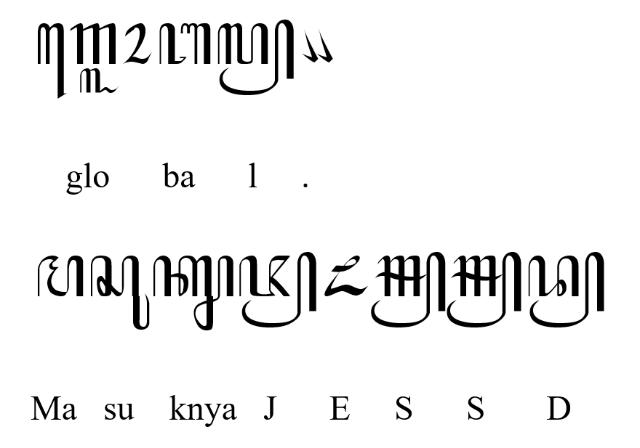-S: (370, 251, 446, 329), (448, 252, 522, 328)
-d: (528, 251, 606, 329)
-j: (238, 252, 318, 328)
-l: (218, 18, 296, 96)
E: (324, 256, 368, 298)
_l: (79, 68, 119, 94)
b: (158, 22, 212, 66)
e1: (36, 22, 68, 100)
g: (70, 22, 118, 66)
kny: (153, 255, 235, 331)
kom: (316, 29, 334, 62), (302, 31, 318, 64)
m: (36, 255, 84, 298)
o: (122, 22, 152, 64)
su: (90, 255, 150, 331)
